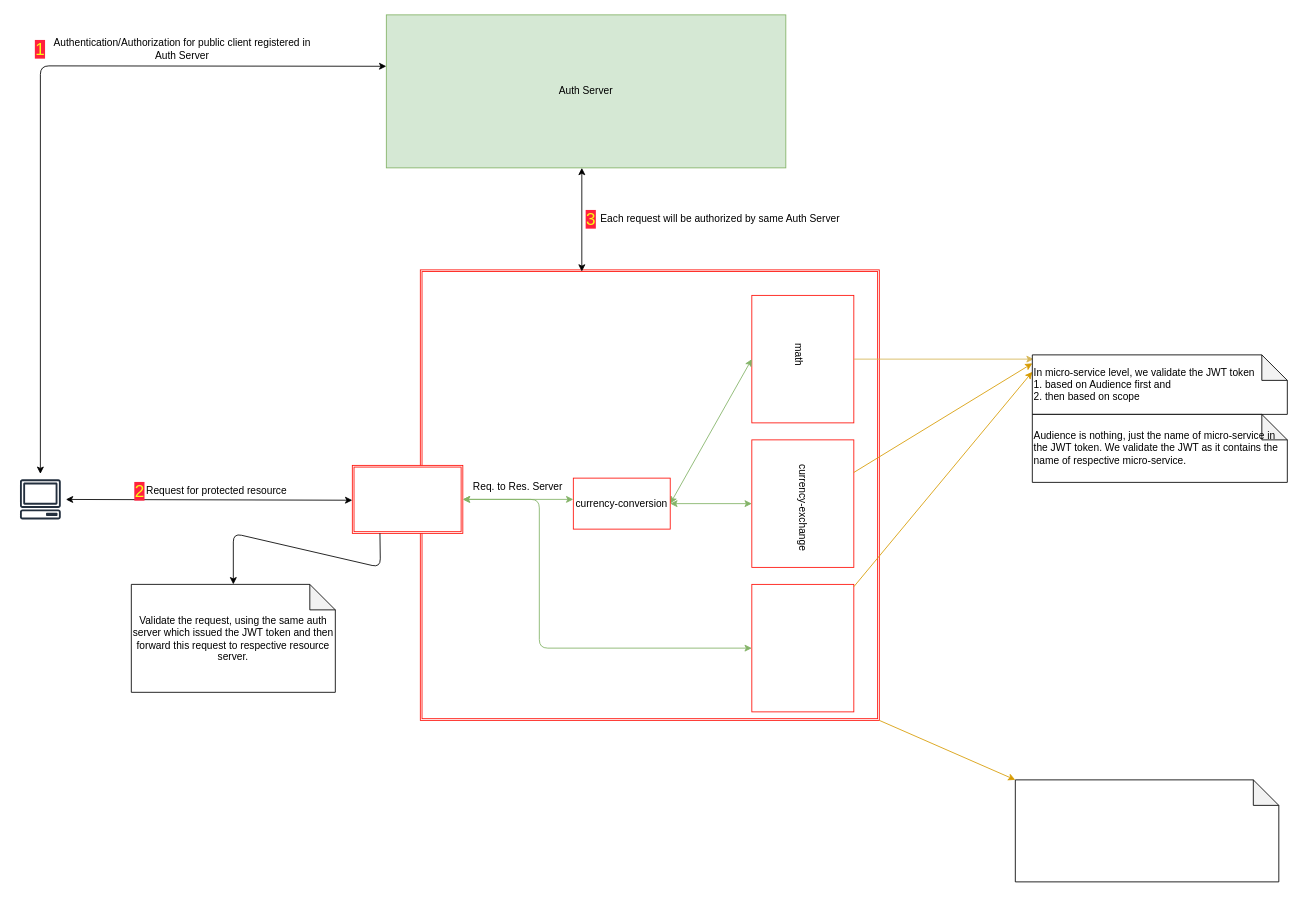
Image size: 1302x897. Some labels were removed from this diagram. Each missing label, with the centre of its shape:
"API Gateway" goes at point 407,499.
"Client" goes at point 40,499.
"country" goes at point 802,648.
"The all micro-services and API gateway are supporting GENERIC OAUTH 2 Flow" goes at point 1146,830.
